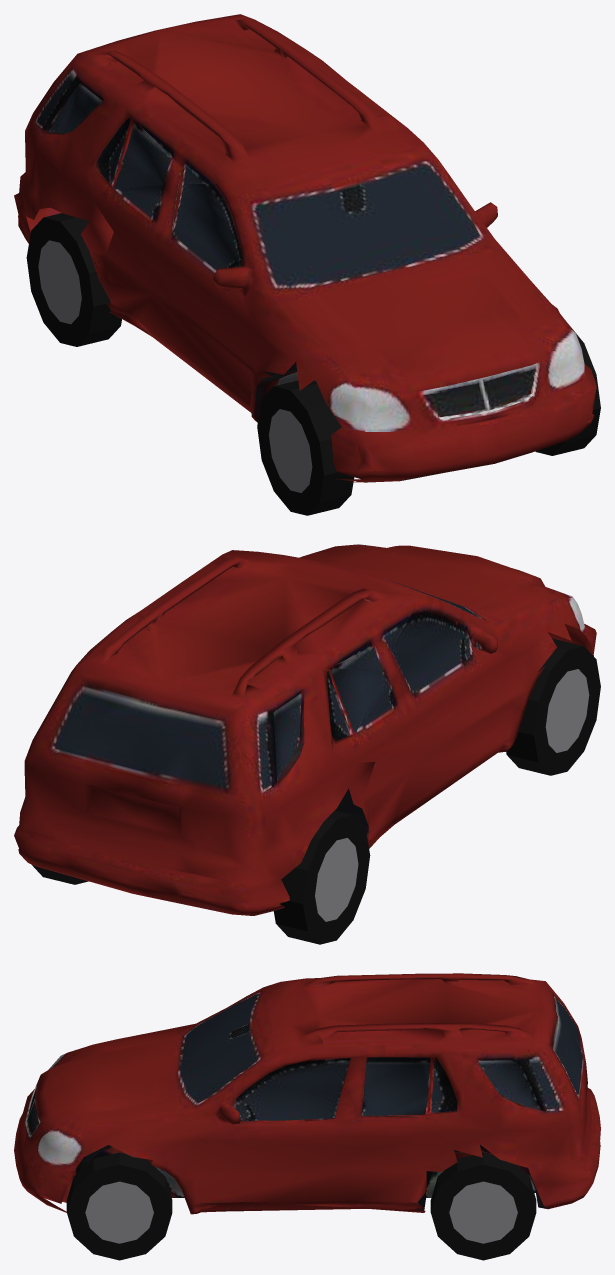
Rendered from suv-red.glb.
The picture shows the model from 3 angles, top to bottom: view 1: azimuth 30°, elevation 25°; view 2: azimuth 150°, elevation 25°; view 3: azimuth 270°, elevation 25°; orthographic projection. The views are drawn at different scales.
Visible parts, largest first — view 1: suv, wheel_fr, wheel_rr, wheel_fl; view 2: suv, wheel_rr, wheel_fr; view 3: suv, wheel_fl, wheel_rl.
Boxes of the visible parts, x1,y1,x2,y2 form: suv: (14,14,596,482); wheel_fr: (257,380,354,515); wheel_rr: (26,213,121,346); wheel_fl: (535,326,600,455); suv: (14,544,596,915); wheel_rr: (273,810,370,944); wheel_fr: (506,638,600,775); suv: (14,973,600,1214); wheel_fl: (66,1152,172,1260); wheel_rl: (430,1152,536,1260).
Bounding box in the file's own units: 2.08 × 1.83 × 4.7.
1 material, 1 textured.
